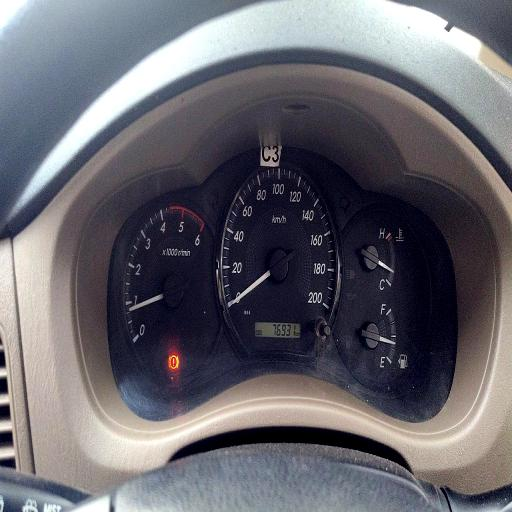brake_system_fault: (168, 354, 180, 369)
tachometer: (125, 200, 222, 376)
